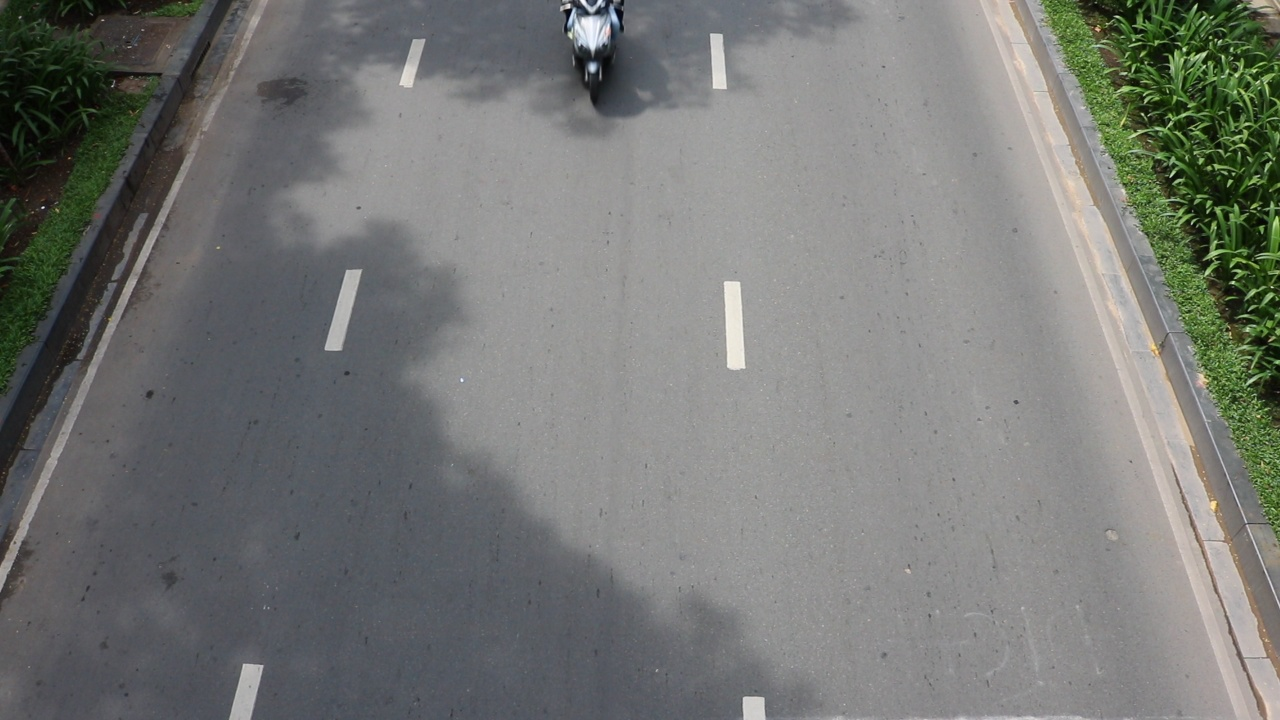motorcycle: (557, 0, 625, 107)
